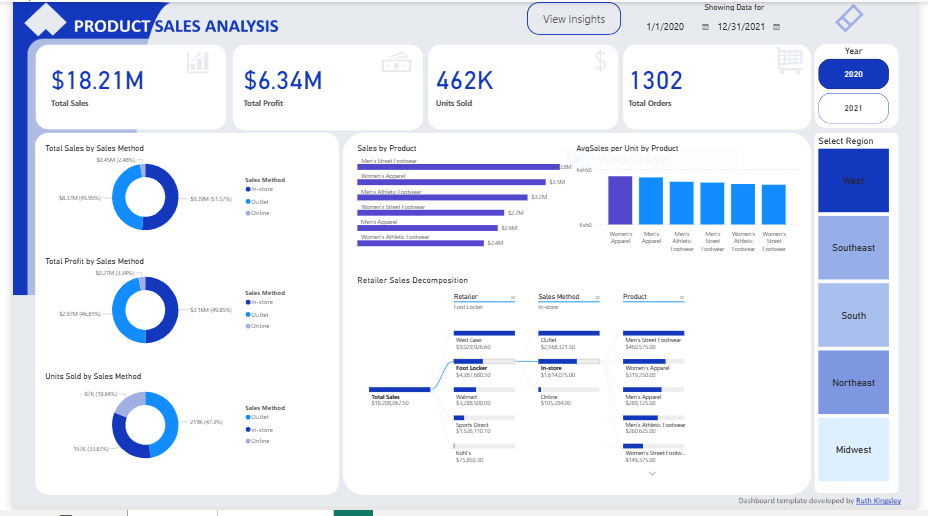

The page's visual inventory and layout, read from the dashboard file:
{"tool":"powerbi","page":{"name":"Sales Analysis","canvas":[1920,1080],"ordinal":1},"visuals":[{"type":"cardVisual","fields":{"Data":["_Measures.Total Sales","_Measures.Total Profit","_Measures.Units Sold","_Measures.Total Orders"]},"box":[63.8,102,1641.3,153.1],"z":0},{"type":"advancedSlicerVisual","title":" Select Region","fields":{"Values":["dim_Region.Region"]},"box":[1707.5,285,160,740],"z":4000},{"type":"advancedSlicerVisual","fields":{"Values":["dim_Calendar.Year"]},"box":[1707.5,92.5,160,170],"z":5000},{"type":"actionButton","box":[1742.5,0,87.5,70],"z":6000},{"type":"slicer","title":"Showing Data for","fields":{"Values":["dim_Calendar.Date"]},"box":[1325,0,417.5,70],"z":7000},{"type":"actionButton","title":"View Insights","box":[1092.5,0,200,70],"z":8000},{"type":"donutChart","fields":{"Y":["_Measures.Total Sales"],"Category":["dim_Sales_Channel.Sales Method"]},"box":[63.8,299.8,537.9,210.5],"z":11000},{"type":"donutChart","fields":{"Y":["_Measures.Total Profit"],"Category":["dim_Sales_Channel.Sales Method"]},"box":[63.8,540,537.9,210.5],"z":12000},{"type":"donutChart","fields":{"Y":["_Measures.Units Sold"],"Category":["dim_Sales_Channel.Sales Method"]},"box":[63.8,784.5,537.9,210.5],"z":13000},{"type":"clusteredBarChart","title":" Sales by Product","fields":{"Y":["_Measures.Label","_Measures.Total Sales"],"Category":["dim_Product.Product"]},"box":[727.1,299.8,465.6,225.4],"z":14000},{"type":"clusteredColumnChart","fields":{"Category":["dim_Product.Product"],"Y":["_Measures.AvgSales per Unit"]},"box":[1192.7,299.8,482.6,240.2],"z":15000},{"type":"decompositionTreeVisual","title":"Retailer Sales Decomposition","fields":{"Analyze":["_Measures.Total Sales"],"ExplainBy":["dim_Retailer.Retailer","dim_Sales_Channel.Sales Method","dim_Product.Product"]},"box":[727.1,580.4,948.2,444.3],"z":16000}]}

Visuals, with their boxes in screenshot pixels (x1, y1, x2, y2), scaled from the page's 1920x1080 canvas onto the 928x516 screenshot:
cardVisual - _Measures.Total Sales x _Measures.Total Profit: <bbox>31, 49, 824, 122</bbox>
" Select Region" advancedSlicerVisual: <bbox>825, 136, 903, 490</bbox>
advancedSlicerVisual - dim_Calendar.Year: <bbox>825, 44, 903, 125</bbox>
actionButton: <bbox>842, 0, 884, 33</bbox>
"Showing Data for" slicer: <bbox>640, 0, 842, 33</bbox>
"View Insights" actionButton: <bbox>528, 0, 625, 33</bbox>
donutChart - _Measures.Total Sales x dim_Sales_Channel.Sales Method: <bbox>31, 143, 291, 244</bbox>
donutChart - _Measures.Total Profit x dim_Sales_Channel.Sales Method: <bbox>31, 258, 291, 359</bbox>
donutChart - _Measures.Units Sold x dim_Sales_Channel.Sales Method: <bbox>31, 375, 291, 475</bbox>
" Sales by Product" clusteredBarChart: <bbox>351, 143, 576, 251</bbox>
clusteredColumnChart - dim_Product.Product x _Measures.AvgSales per Unit: <bbox>576, 143, 810, 258</bbox>
"Retailer Sales Decomposition" decompositionTreeVisual: <bbox>351, 277, 810, 490</bbox>
